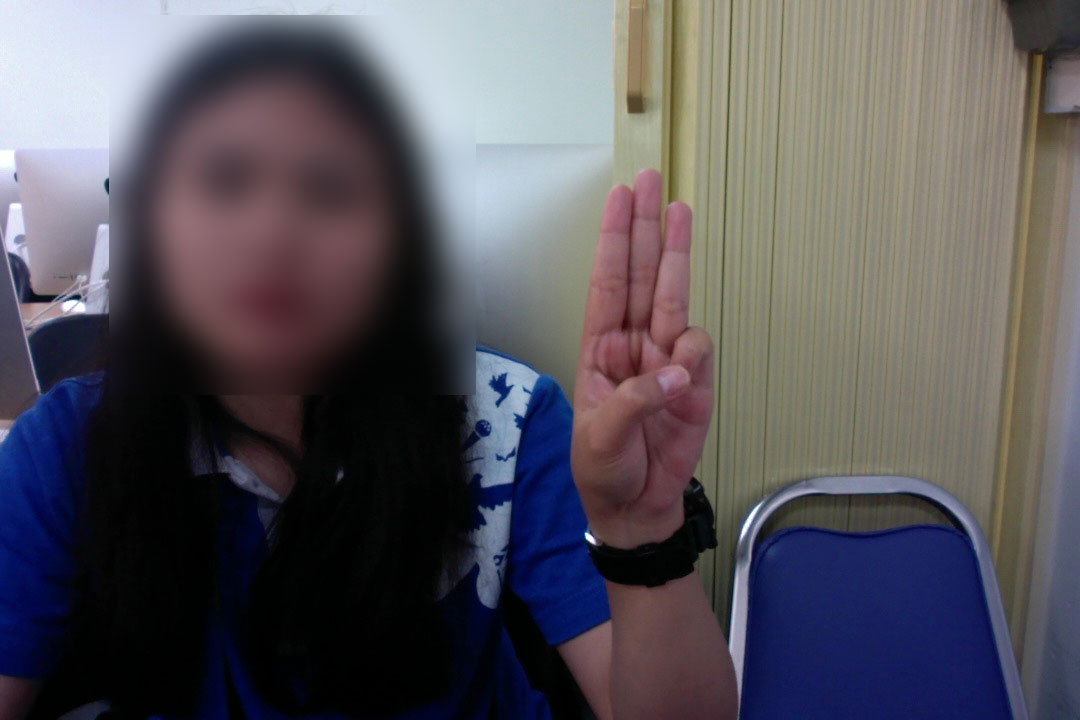wor: (567, 151, 724, 530)
